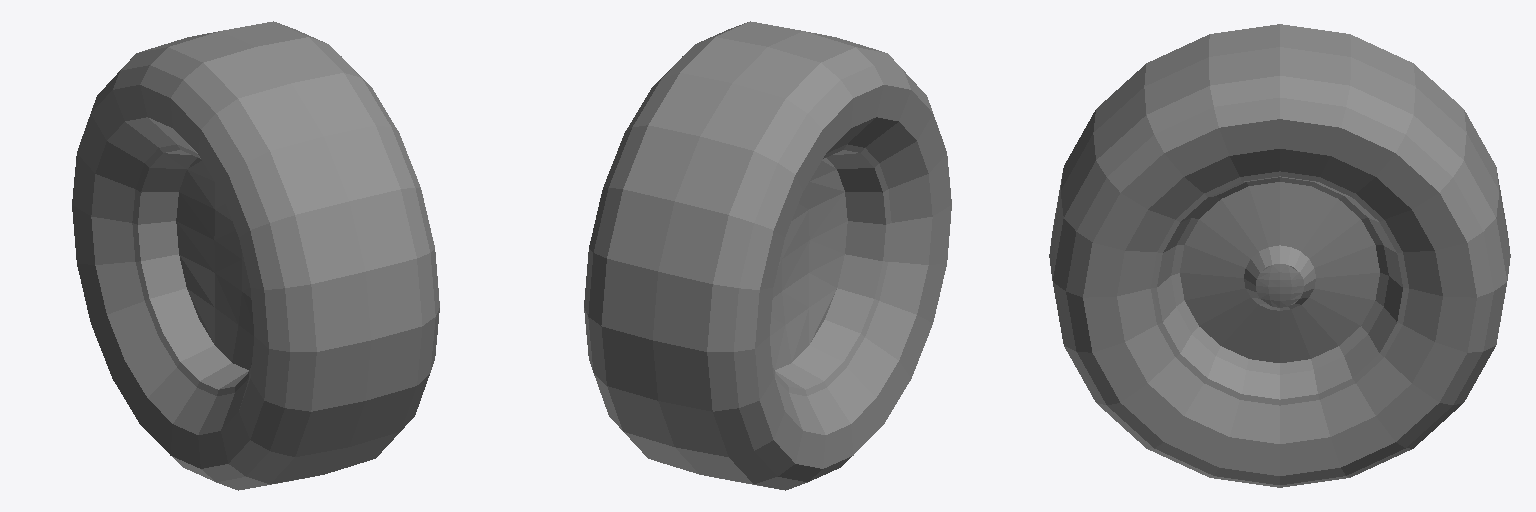
The model's file is ruerdaDer.obj.
3 views of the same model, side by side, from view 1: azimuth 30°, elevation 25°; view 2: azimuth 150°, elevation 25°; view 3: azimuth 270°, elevation 25° (orthographic).
Visible parts, largest first — view 1: wheel1; view 2: wheel1; view 3: wheel1.
Boxes of the visible parts, box(x1,y1,x2,y2) form: wheel1: box(72, 21, 439, 490); wheel1: box(584, 21, 951, 490); wheel1: box(1049, 24, 1510, 487).
Bounding box in the file's own units: 0.6856 × 1.6 × 1.6.